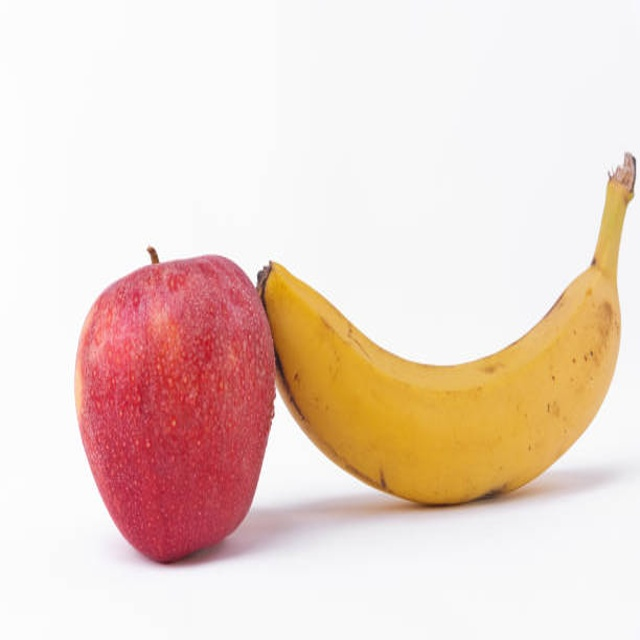apple: (52, 255, 264, 567)
banana: (264, 150, 640, 574)
